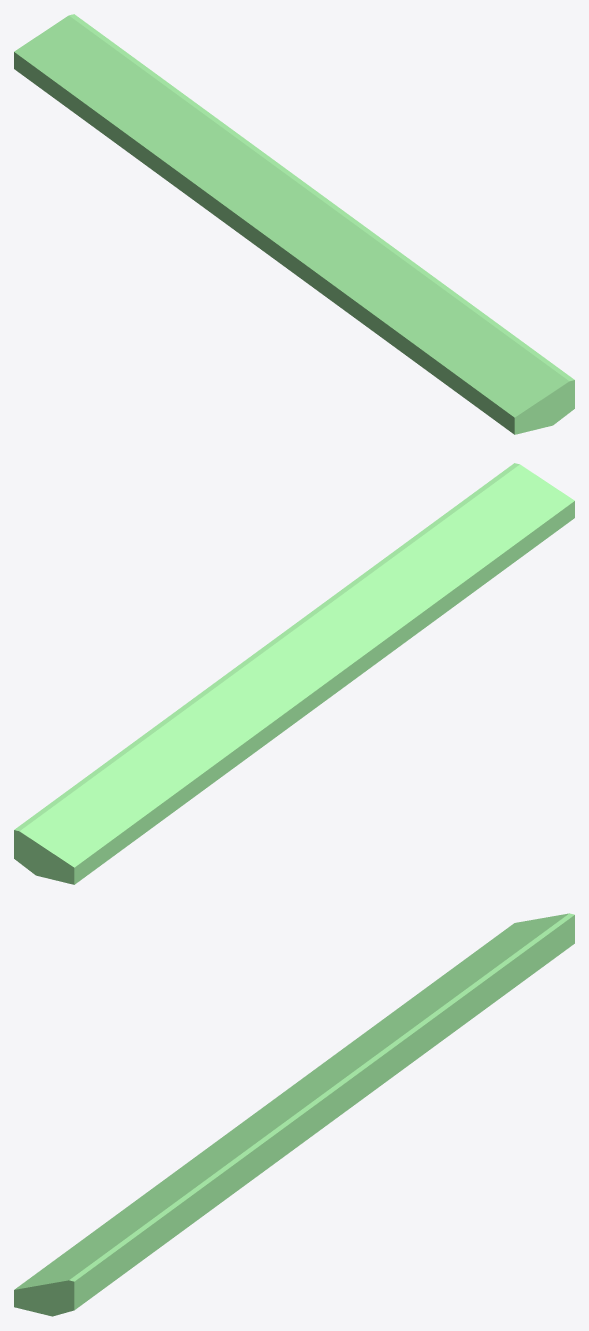
Rendered from dvkr_robot_robot_base_coll_2.dae.
3 renders of one model, top to bottom at view 1: azimuth 30°, elevation 25°; view 2: azimuth 150°, elevation 25°; view 3: azimuth 330°, elevation 25°, orthographic.
Parts seen in each view (by area): view 1: Node_0000023514CD9BB0; view 2: Node_0000023514CD9BB0; view 3: Node_0000023514CD9BB0.
Part boxes in pixels (x1,y1,x2,y2): Node_0000023514CD9BB0: (14,14,574,434); Node_0000023514CD9BB0: (14,463,574,884); Node_0000023514CD9BB0: (14,913,574,1316).
Size of the model in its own units: 0.111 by 0.07 by 1.58.
